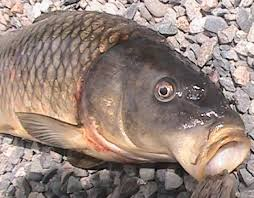carp: (1, 9, 252, 184)
